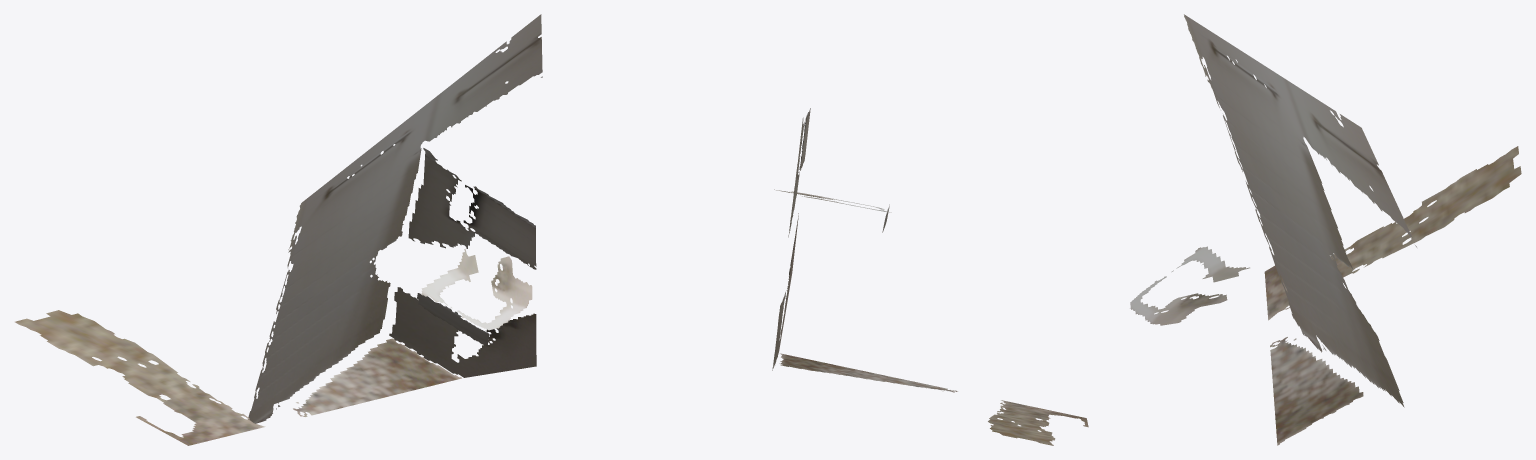
Rendered from 532_d2_depth_GTplane_gt_model.glb.
3 views of the same model, side by side, from view 1: azimuth 30°, elevation 25°; view 2: azimuth 150°, elevation 25°; view 3: azimuth 270°, elevation 25° (orthographic). The views are drawn at different scales.
Size of the model in its own units: 3.02 by 1.91 by 1.75.
